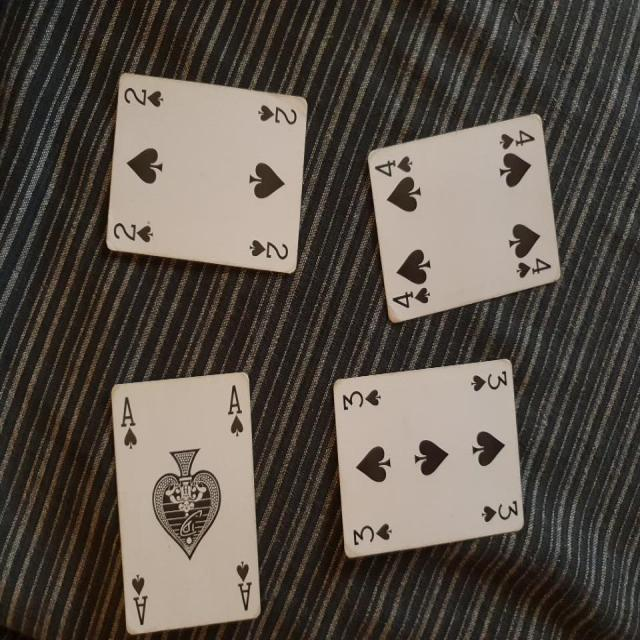2 of spades: (97, 59, 321, 302)
3 of spades: (326, 359, 536, 568)
4 of spades: (353, 104, 573, 334)
ace of spades: (98, 369, 264, 640)
